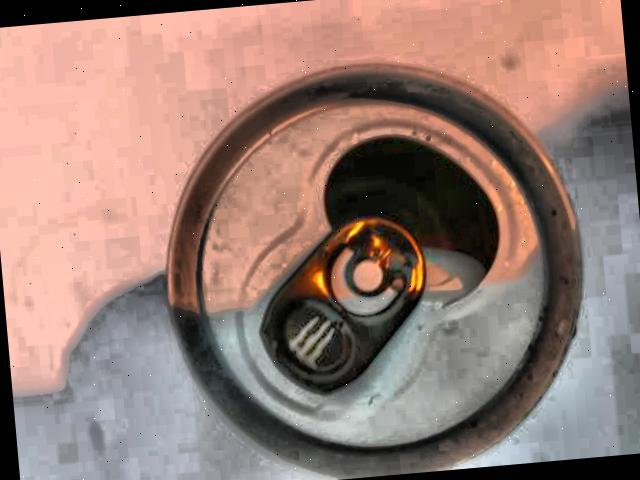Bottles: (127, 27, 616, 480)
